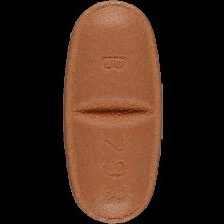51991-293: (0, 0, 224, 224)
